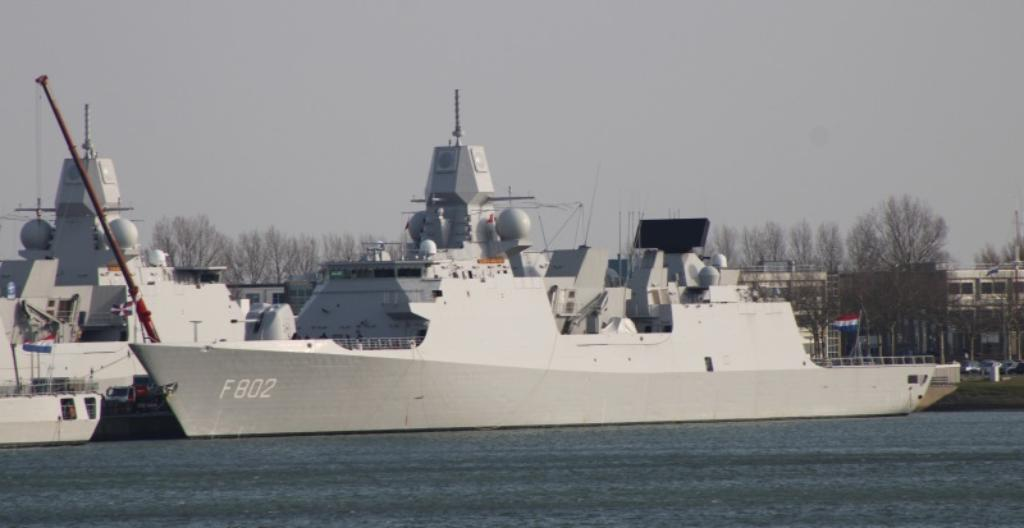Warship: (128, 91, 962, 440), (0, 80, 266, 452)
